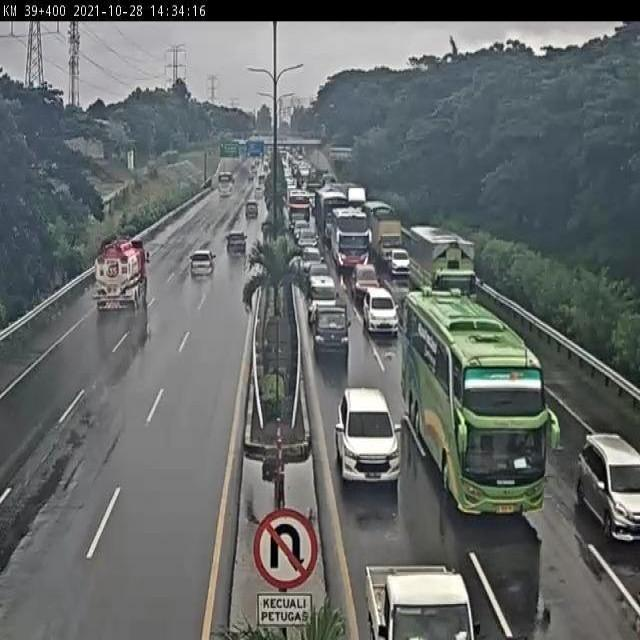bus-l-: (403, 295, 552, 513), (330, 205, 370, 263)
car: (335, 381, 401, 476), (307, 296, 347, 349), (361, 289, 403, 336), (306, 270, 339, 306), (350, 260, 383, 295), (299, 241, 324, 272), (227, 229, 250, 259)
